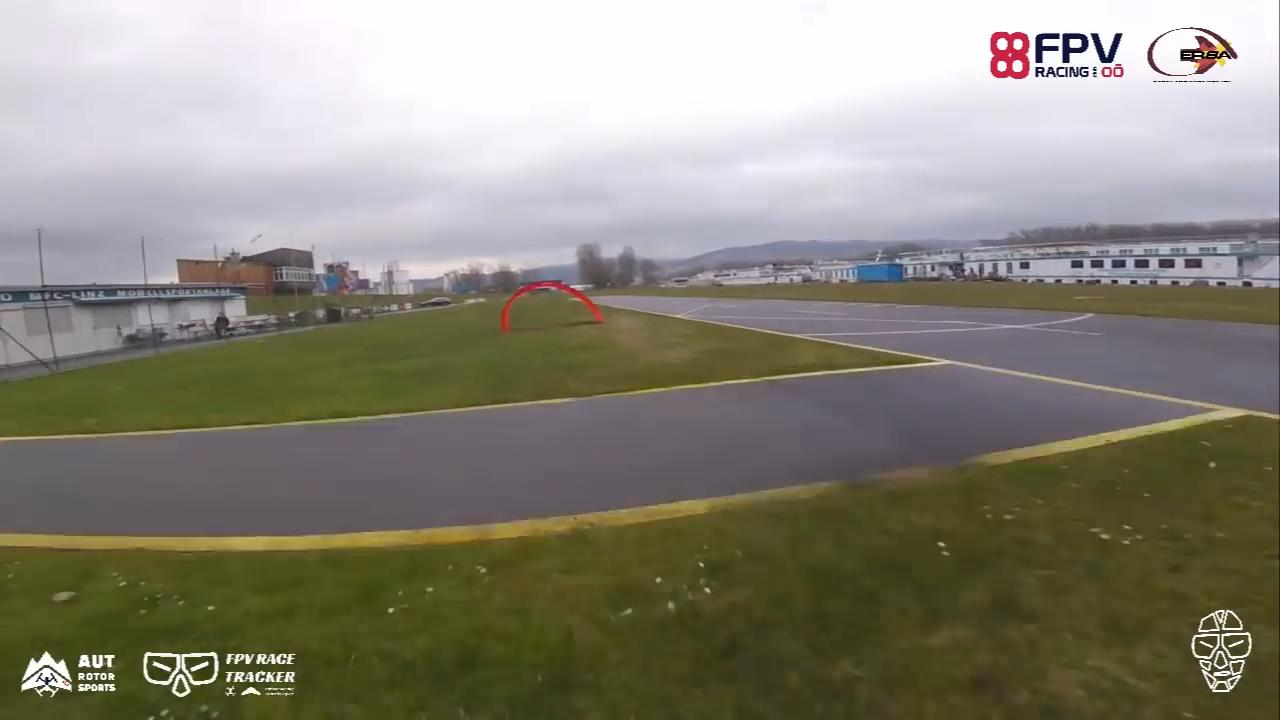gate: (500, 279, 610, 333)
